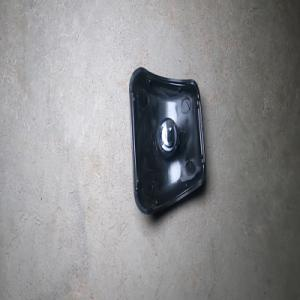LuggagePart: (128, 65, 207, 217)
